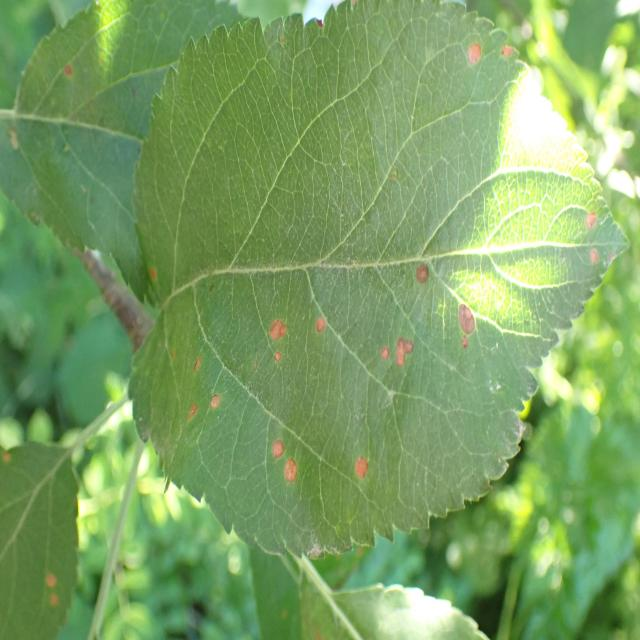Black Rot: (451, 290, 489, 345), (258, 304, 298, 348), (488, 27, 524, 74), (377, 325, 400, 396), (341, 446, 371, 491), (184, 333, 205, 394), (464, 22, 485, 81), (573, 192, 602, 233), (394, 334, 418, 381), (143, 254, 164, 305), (307, 310, 331, 349), (411, 253, 433, 294), (580, 241, 605, 276), (265, 348, 293, 377), (205, 382, 226, 419), (178, 401, 205, 426), (283, 451, 298, 490), (266, 435, 286, 458)
